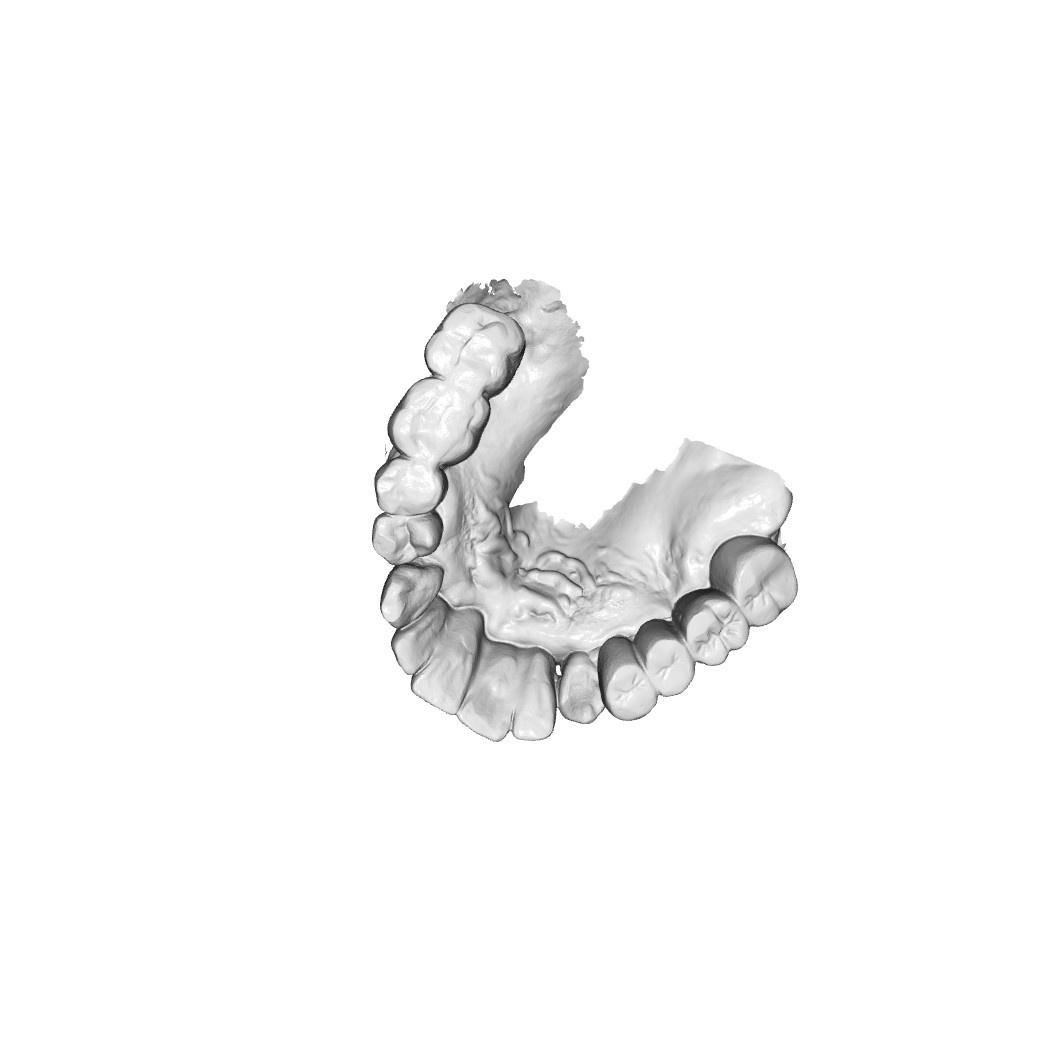canine: (377, 562, 447, 630), (551, 649, 610, 728)
incisor: (409, 645, 477, 719), (458, 663, 513, 744), (509, 674, 561, 747), (389, 619, 444, 677)
molar: (422, 303, 530, 393), (387, 376, 489, 464), (715, 537, 799, 630), (683, 587, 755, 669)
premolar: (371, 504, 448, 571), (373, 454, 451, 517), (635, 622, 698, 699), (594, 652, 662, 722)
